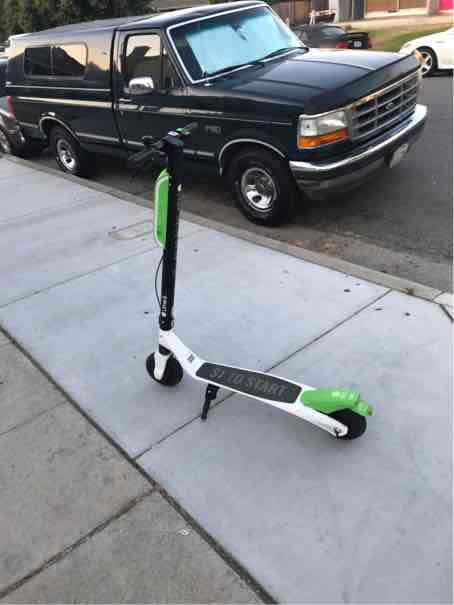scooter: (120, 121, 374, 447)
